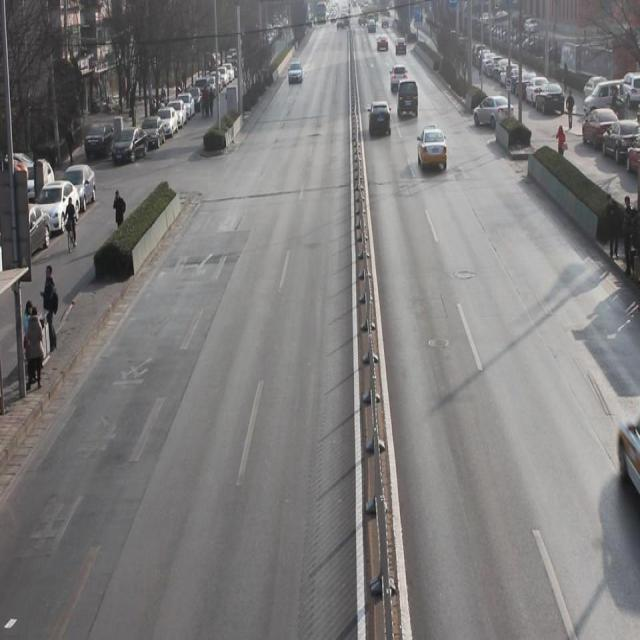car: (416, 126, 450, 176), (368, 100, 393, 137), (287, 57, 304, 85), (391, 66, 408, 90)
truck: (399, 76, 419, 120)
